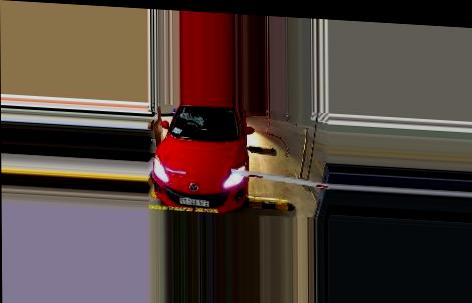License_Plate: (177, 195, 212, 209)
